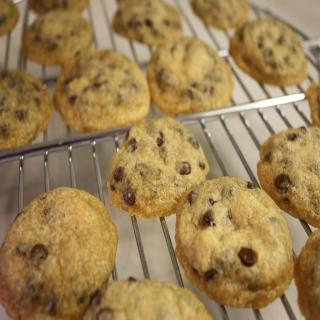Cookie: (0, 0, 307, 149), (172, 175, 294, 308), (0, 185, 118, 320), (106, 115, 210, 220), (255, 124, 320, 227), (84, 275, 214, 320), (293, 230, 320, 320), (306, 85, 320, 126)
